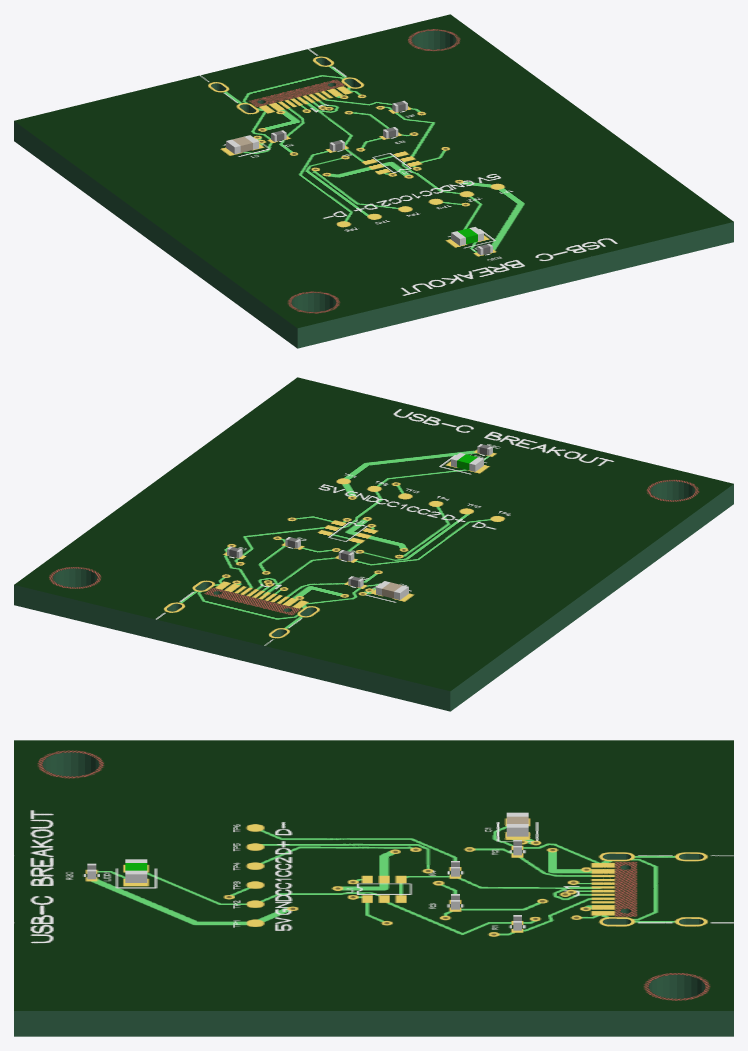
The picture shows the model from 3 angles, top to bottom: view 1: azimuth 30°, elevation 25°; view 2: azimuth 150°, elevation 25°; view 3: azimuth 270°, elevation 25°; orthographic projection. The views are drawn at different scales.
Visible parts, largest first — view 1: Box0; view 2: Box0; view 3: Box0, C1, LED1.
Boxes of the visible parts, x1,y1,x2,y2 form: Box0: (14, 14, 733, 348); Box0: (14, 377, 733, 711); Box0: (14, 740, 733, 1036); C1: (506, 812, 528, 836); LED1: (125, 859, 147, 882).
Size of the model in its own units: 36 by 2.15 by 40.5.
7 materials, 2 textured.
